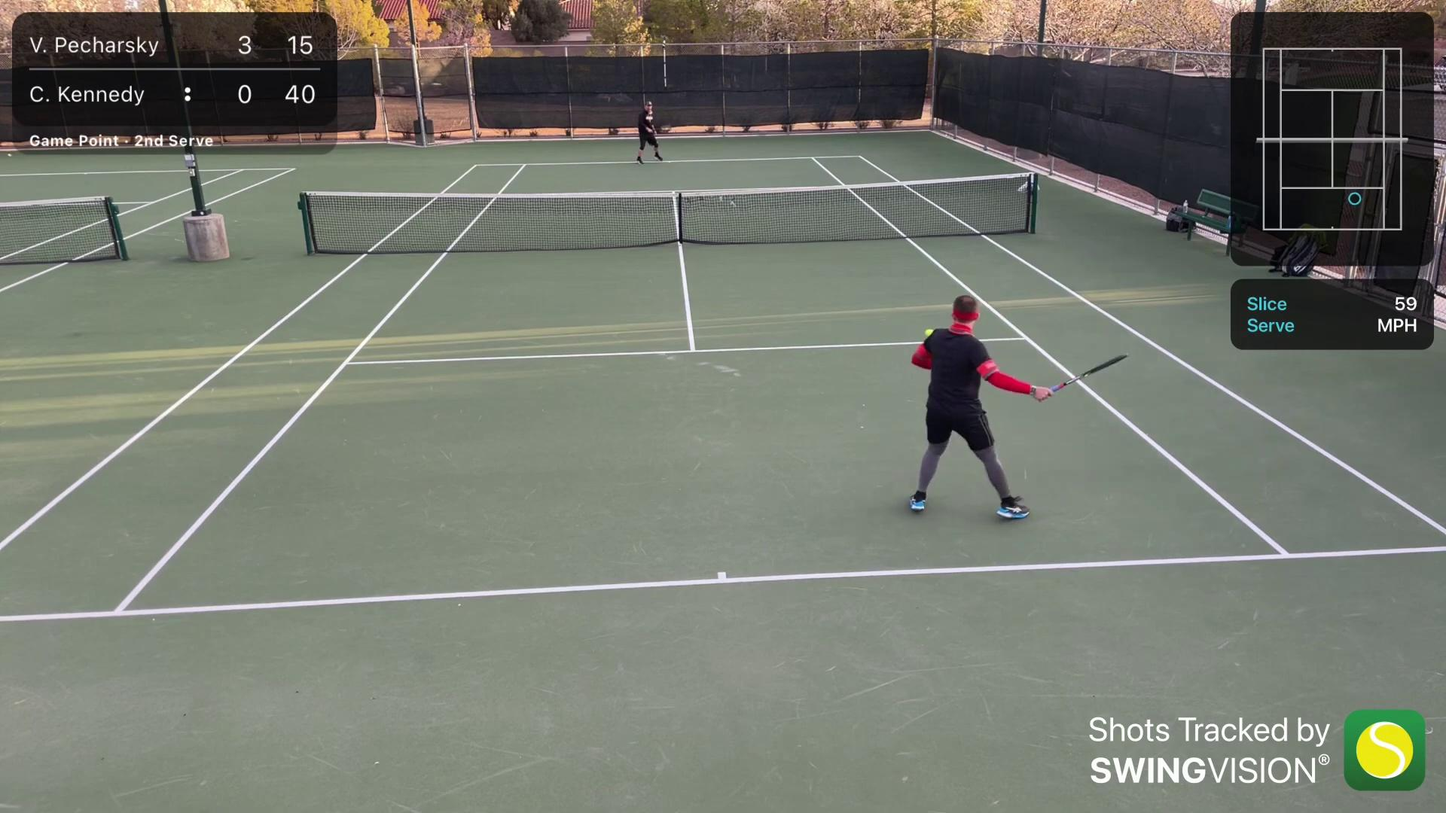ball: (922, 328, 933, 336)
